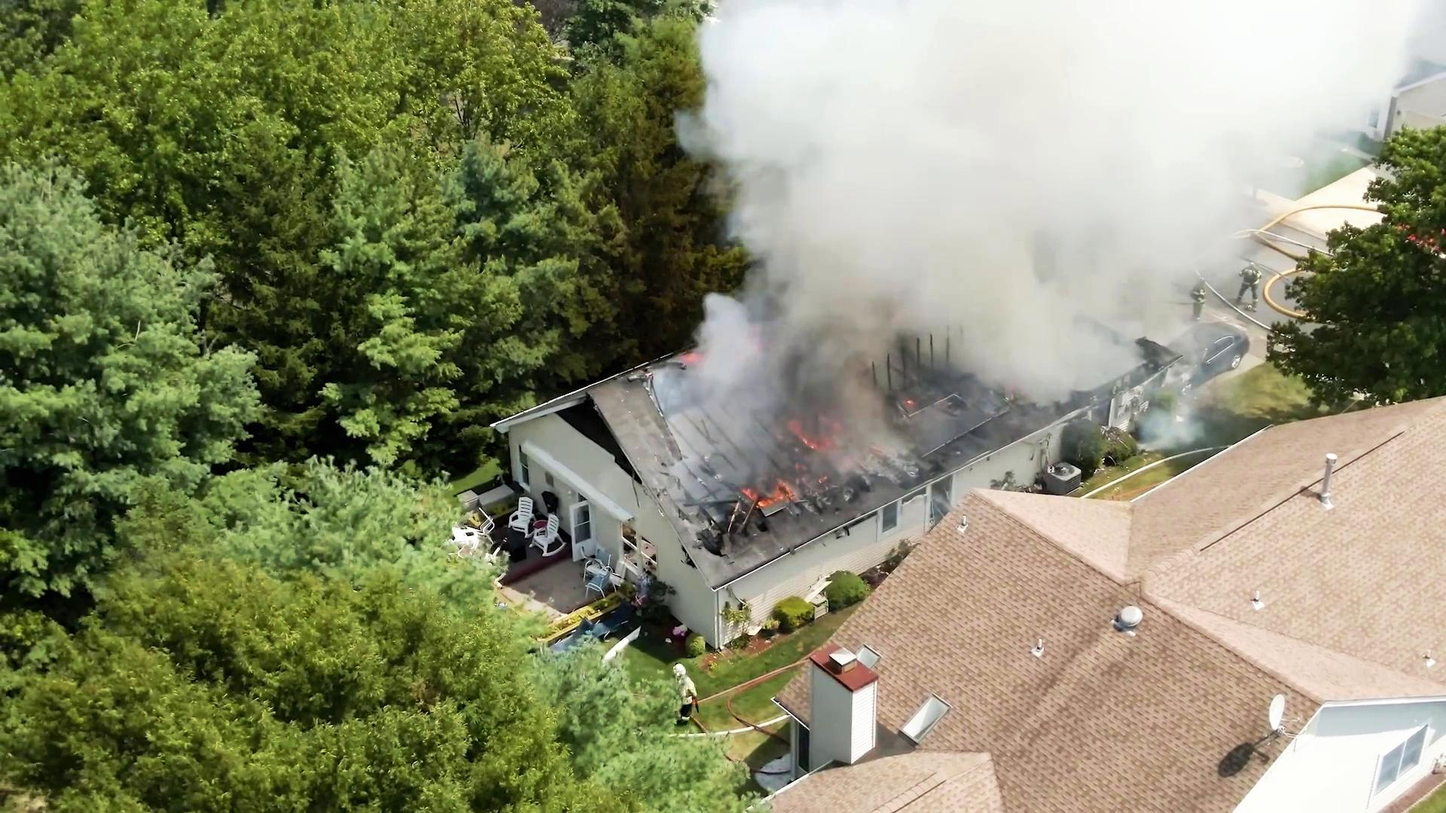smoke: (720, 19, 1088, 327), (665, 0, 1428, 130), (987, 0, 1224, 260)
